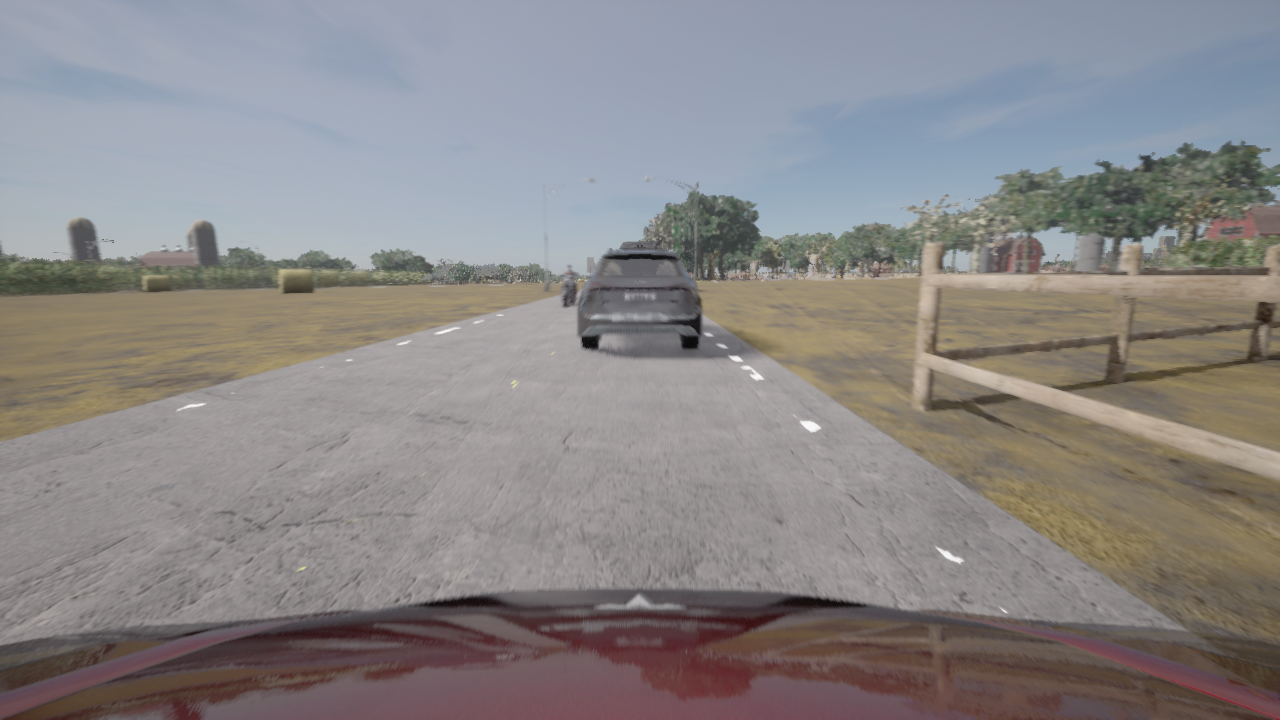cyclist: (0, 588, 1279, 719), (578, 247, 701, 349), (558, 272, 577, 305), (620, 240, 662, 249)
